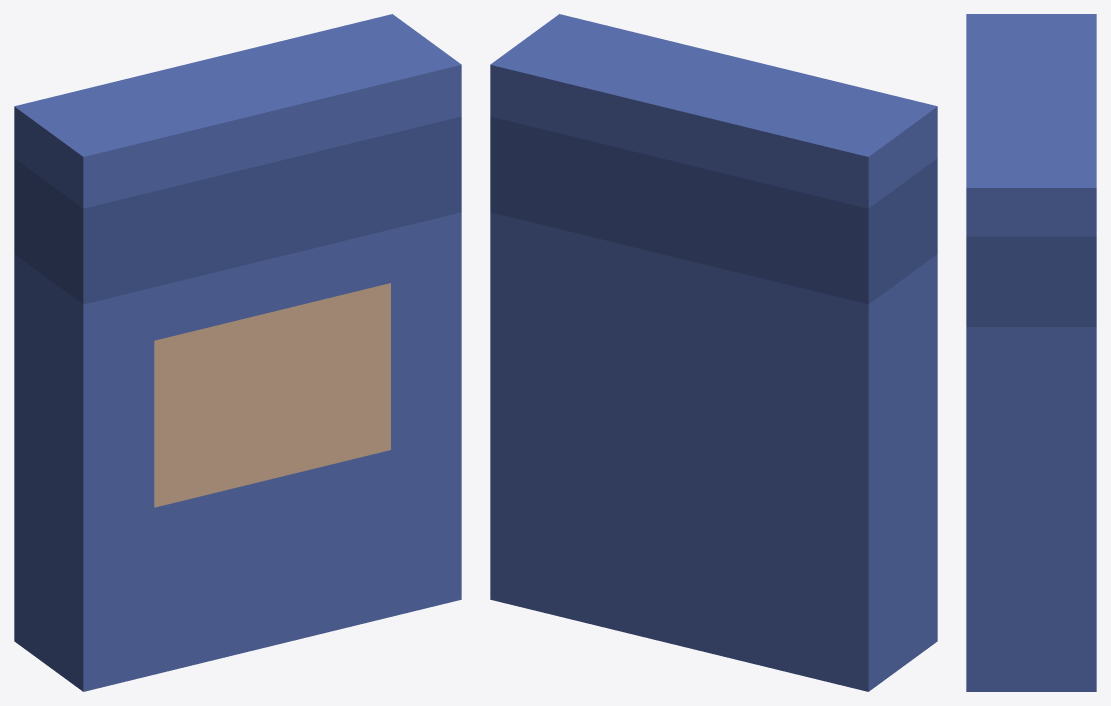
Rendered from SM_Food_FoodBox_04.fbx.
3 renders of one model, left to right at view 1: azimuth 30°, elevation 25°; view 2: azimuth 150°, elevation 25°; view 3: azimuth 270°, elevation 25°, orthographic. The views are drawn at different scales.
Visible parts, largest first — view 1: SM_Food_FoodBox_04; view 2: SM_Food_FoodBox_04; view 3: SM_Food_FoodBox_04.
Part boxes in pixels (left/top/right/bottom): SM_Food_FoodBox_04: left=14, top=14, right=461, bottom=691; SM_Food_FoodBox_04: left=490, top=14, right=937, bottom=691; SM_Food_FoodBox_04: left=966, top=14, right=1096, bottom=691.
Size of the model in its own units: 0.2195 by 0.2966 by 0.0696.
